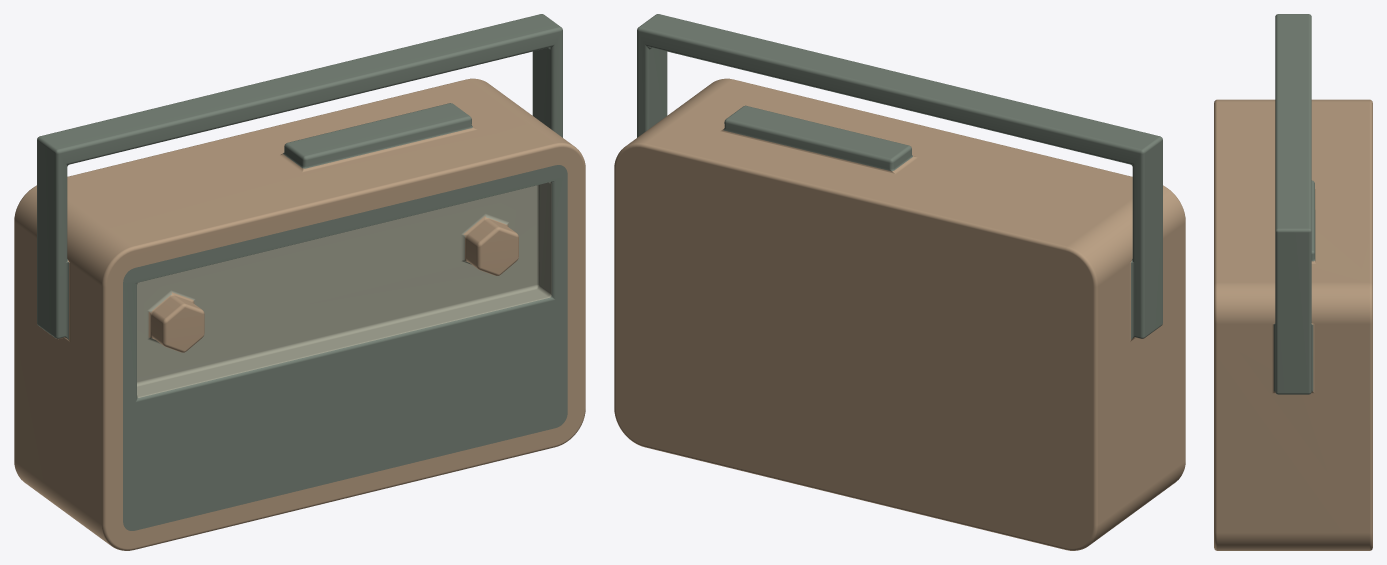
The model's file is radio.glb.
3 views of the same model, side by side, from view 1: azimuth 30°, elevation 25°; view 2: azimuth 150°, elevation 25°; view 3: azimuth 270°, elevation 25° (orthographic). The views are drawn at different scales.
Visible parts, largest first — view 1: radio(Clone); view 2: radio(Clone); view 3: radio(Clone).
Boxes of the visible parts, x1=… form: radio(Clone): x1=14, y1=14, x2=585, y2=550; radio(Clone): x1=614, y1=14, x2=1185, y2=550; radio(Clone): x1=1214, y1=14, x2=1372, y2=550.
Size of the model in its own units: 0.315 by 0.2282 by 0.0975.
